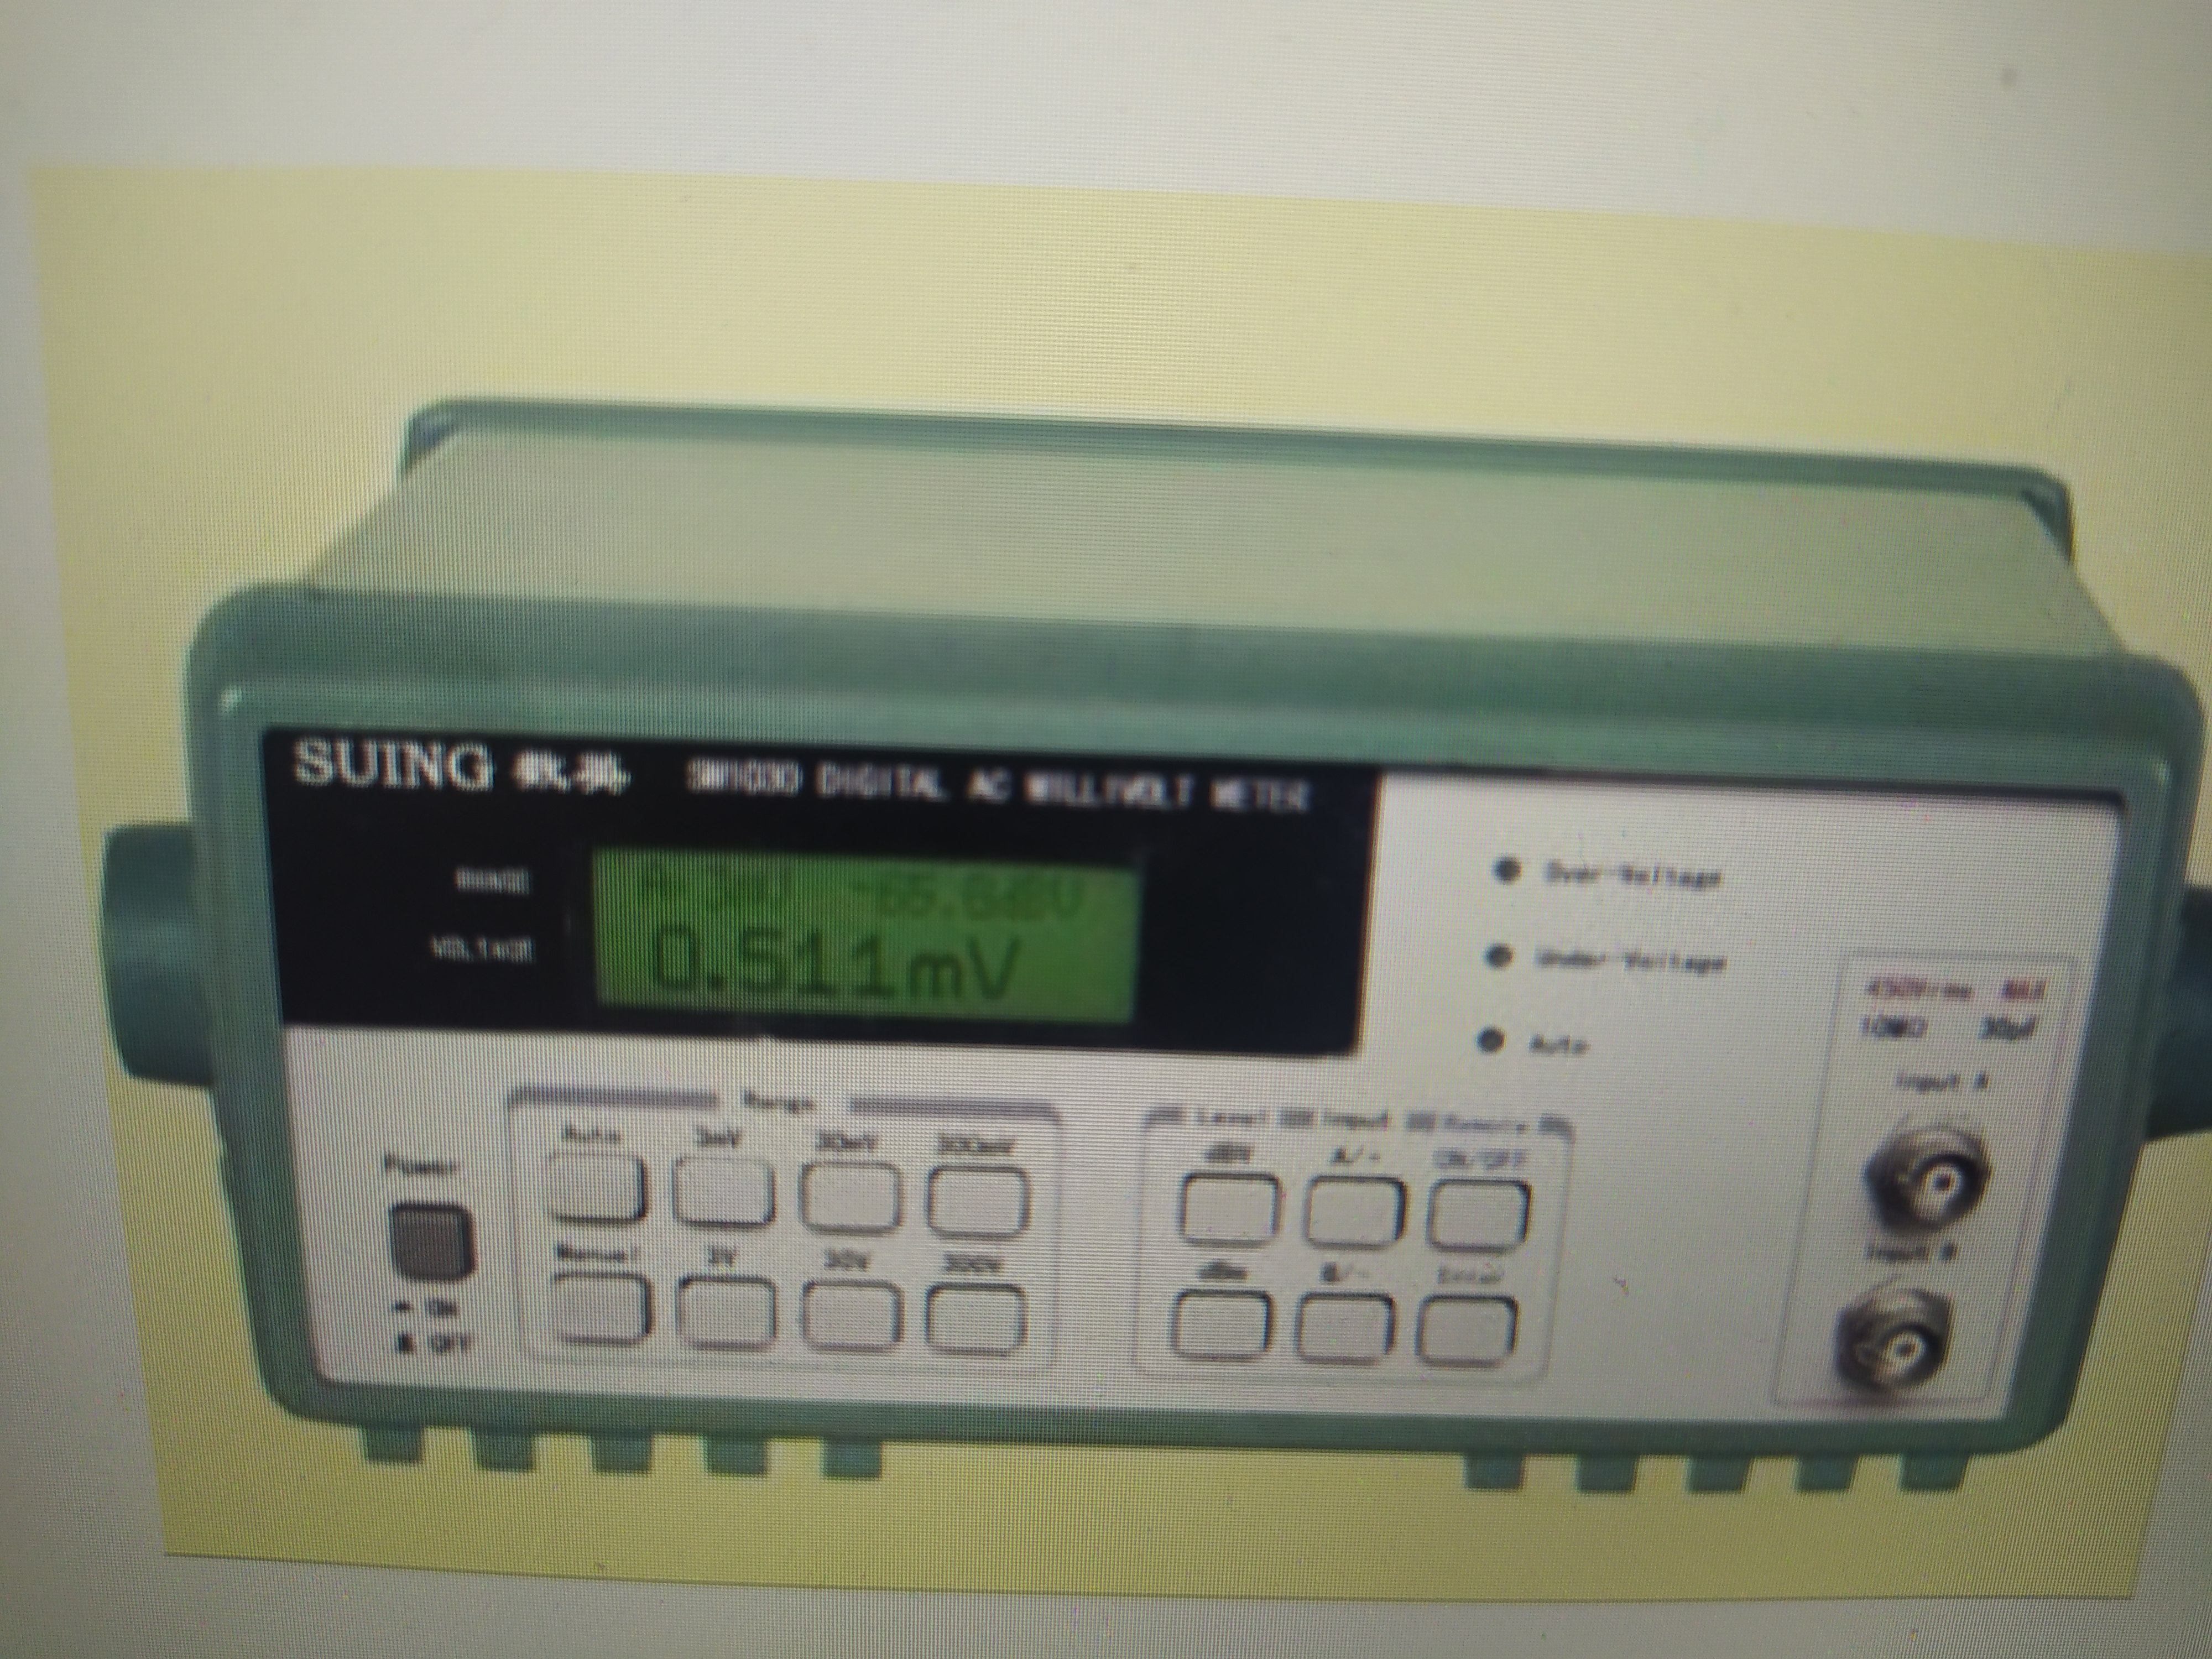.: (704, 925, 733, 1000), (937, 866, 960, 931)
0: (643, 922, 705, 997), (775, 756, 801, 800), (737, 758, 765, 795), (758, 760, 780, 800)
1: (841, 927, 900, 1007), (791, 927, 841, 1006)
3: (702, 854, 730, 915)
4: (996, 868, 1024, 924)
5: (735, 925, 791, 1002), (906, 864, 939, 922)
6: (960, 864, 993, 925), (878, 864, 907, 922)
8: (1021, 866, 1049, 927)
